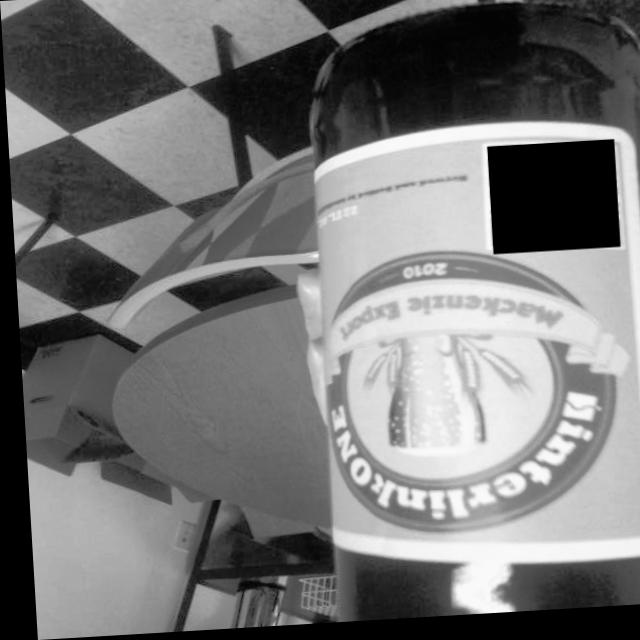qr_code: (485, 146, 617, 259)
